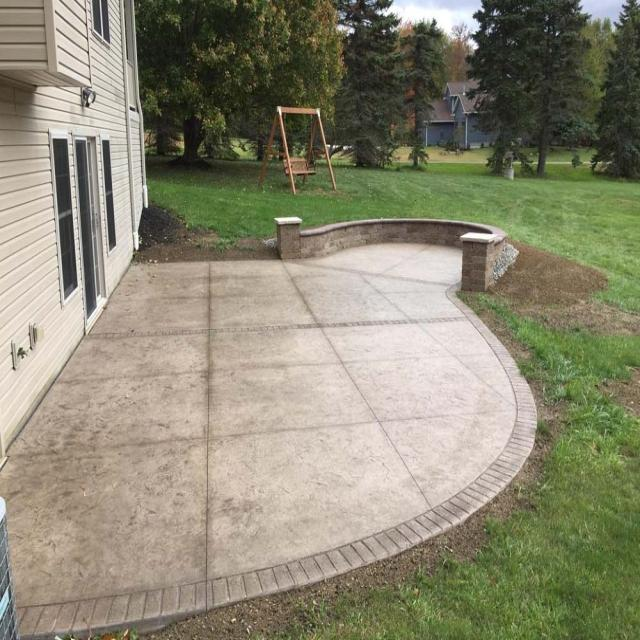Concrete: (0, 225, 539, 640)
